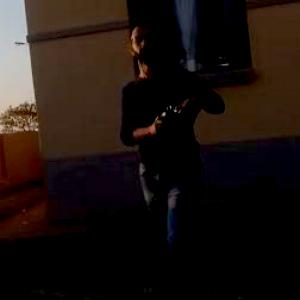follow: (100, 5, 231, 299)
